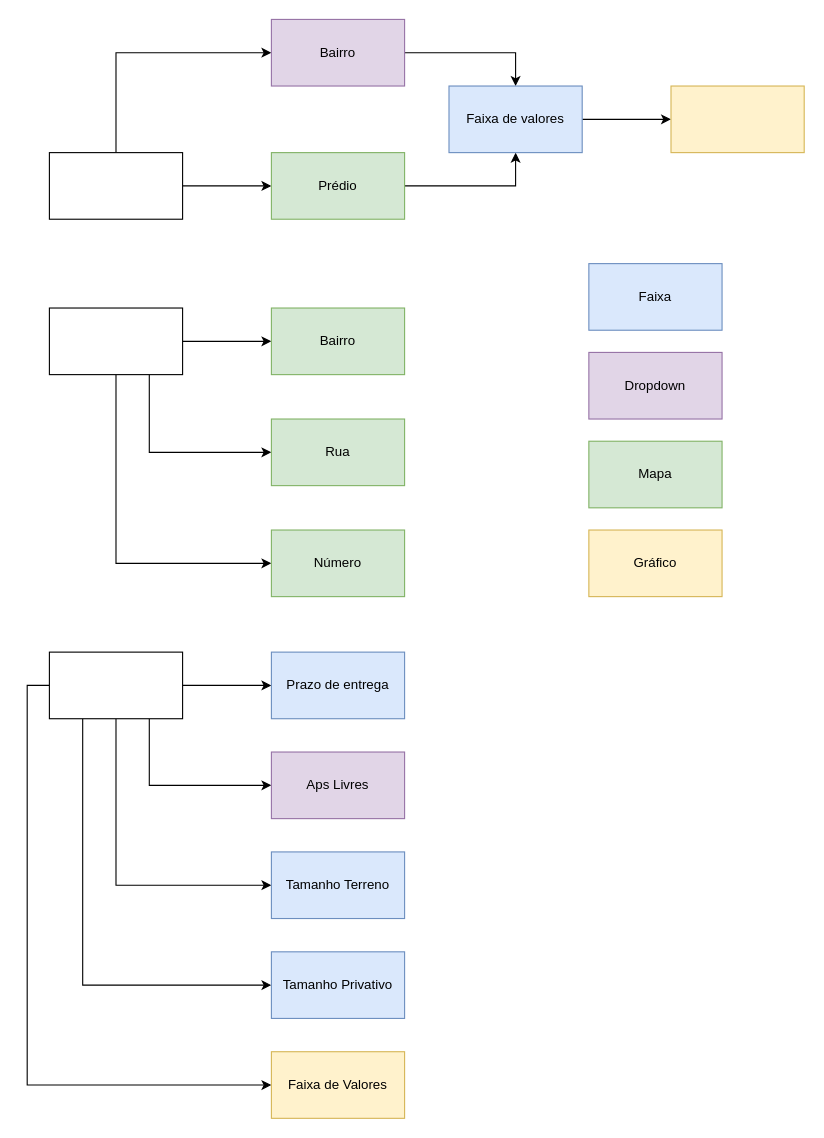
This 824x1138 diagram has some shape labels left out. The centre of each missing label's shape, as x and y in pixels:
"Construtora" belongs at [115,685].
"Histórico" belongs at [737,119].
"Localização" belongs at [115,341].
"VGV" belongs at [115,185].
